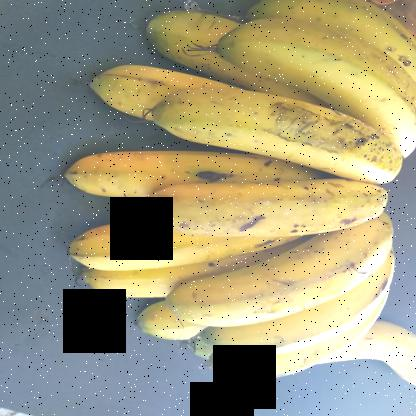ripe: (109, 83, 403, 179), (216, 224, 415, 358), (178, 206, 385, 323), (220, 27, 415, 135), (140, 170, 401, 234), (58, 218, 235, 275)
